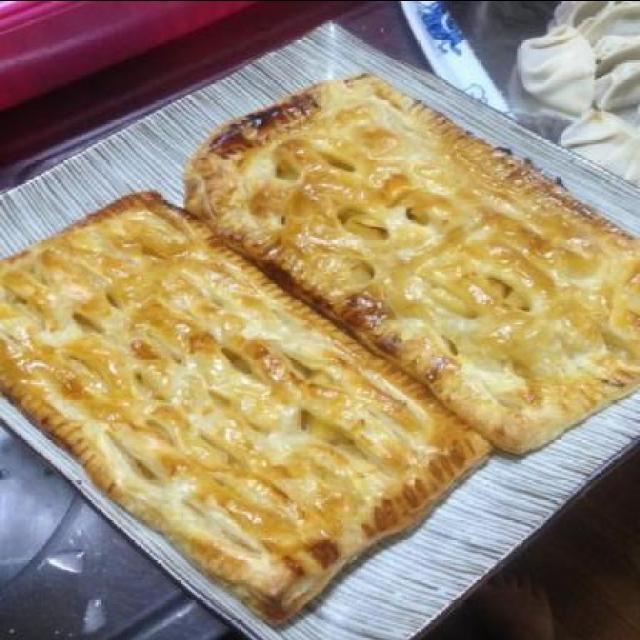Apple: (202, 73, 633, 370), (8, 203, 184, 486)
